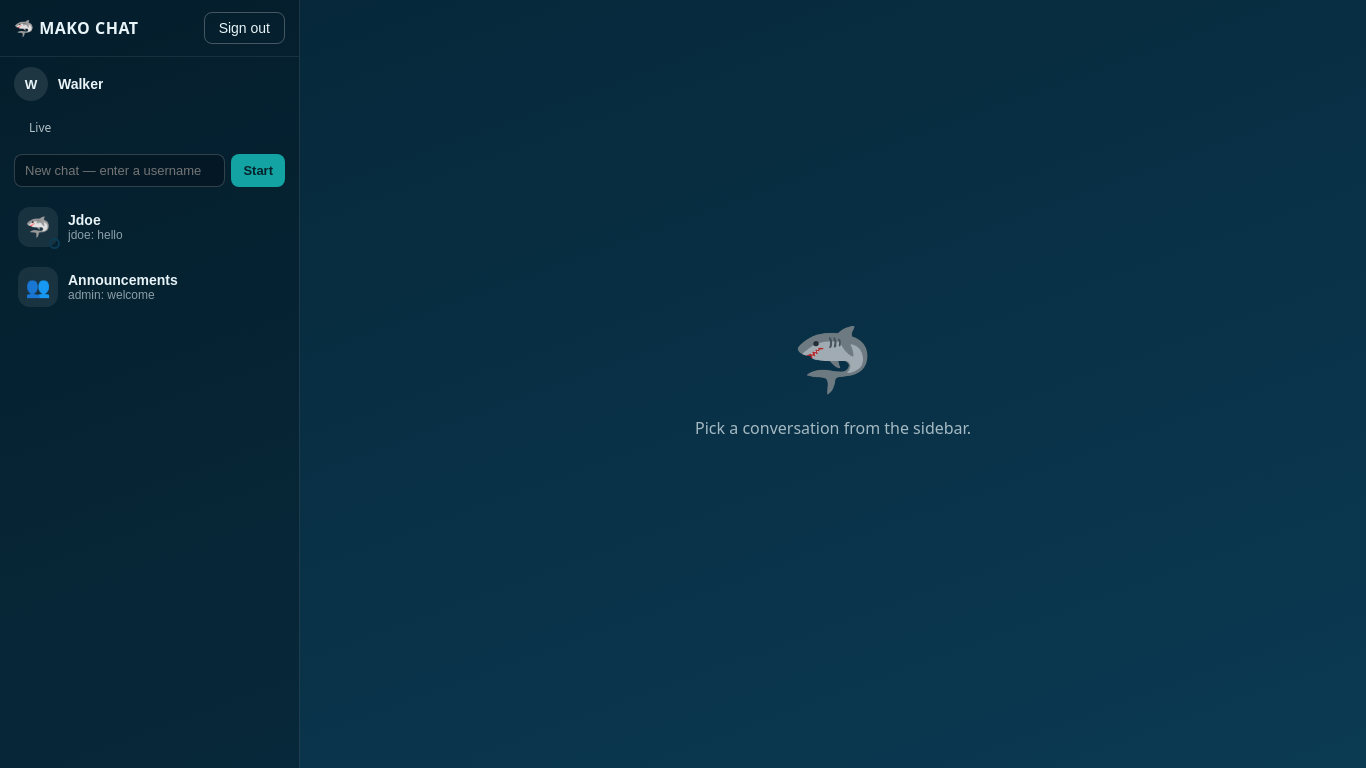
Test: ChatShell: profile + notifications (Batch 6) › opens the profile panel, edits the name, and saves it
The image size is (1366, 768).
Later steps or results of the test are not shown.
Check: the text "Walker" is shown, box [58,76,103,92]
Click the button titled "My profile". click: (31, 84)
box: [0,57,299,111]
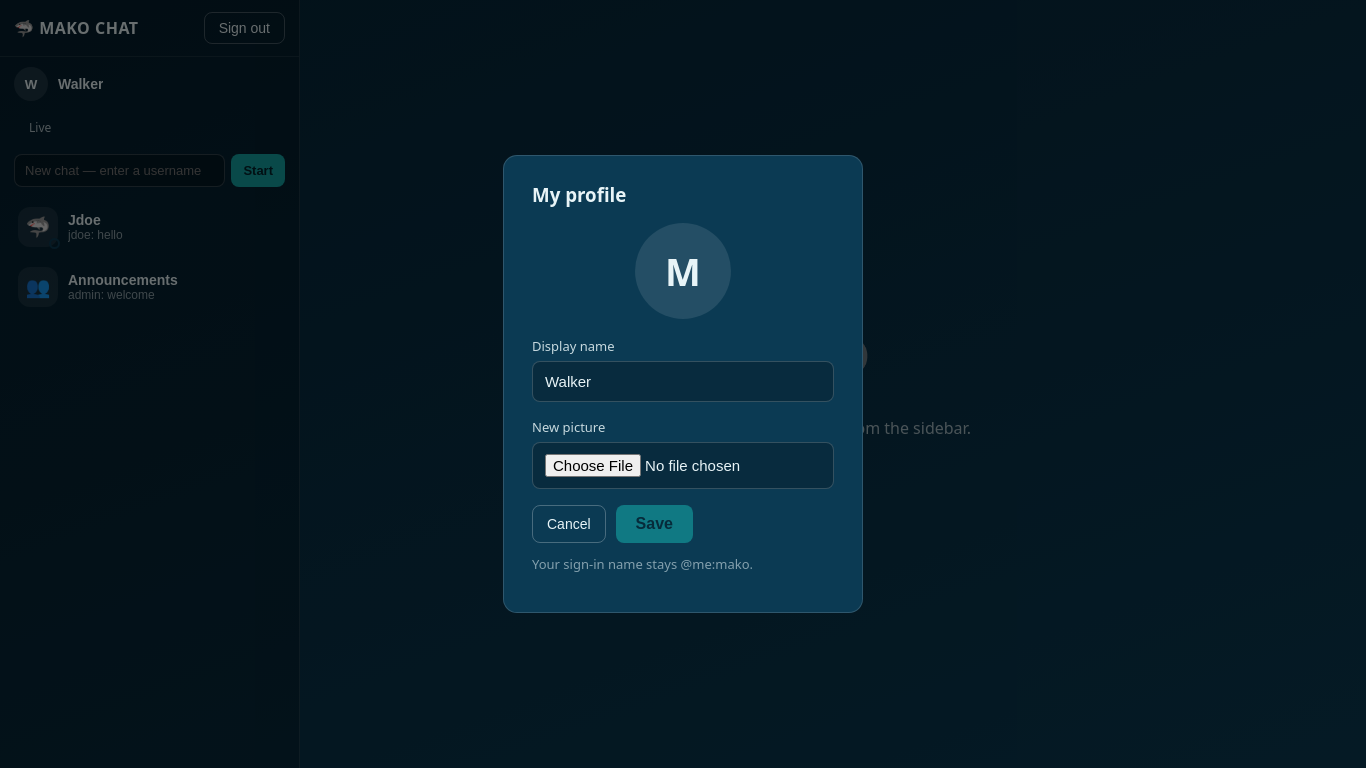
Check: the dialog "My profile" is shown, box [503,155,863,613]
